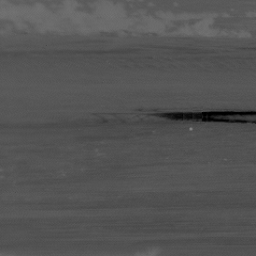Target: (187, 126, 194, 133)
